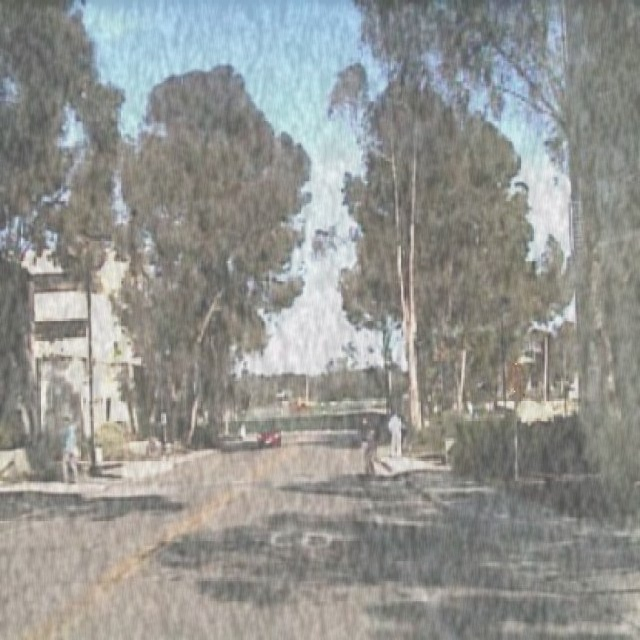pedestrianCrossing: (505, 358, 528, 402)
